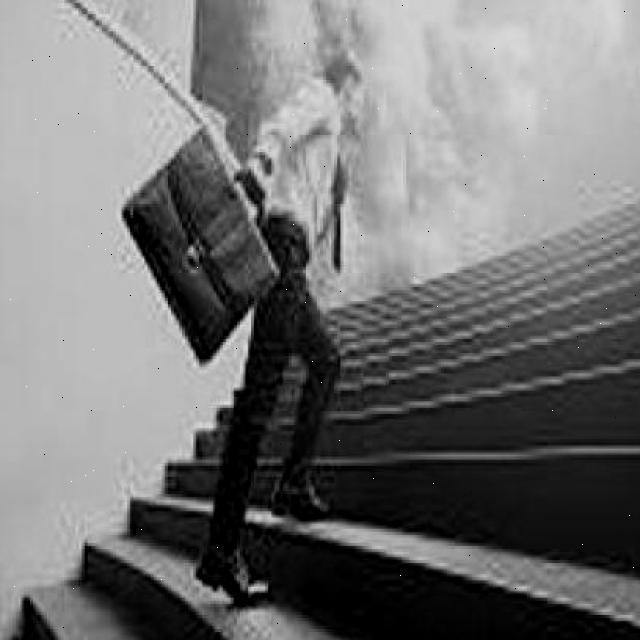stair: (108, 438, 485, 607)
